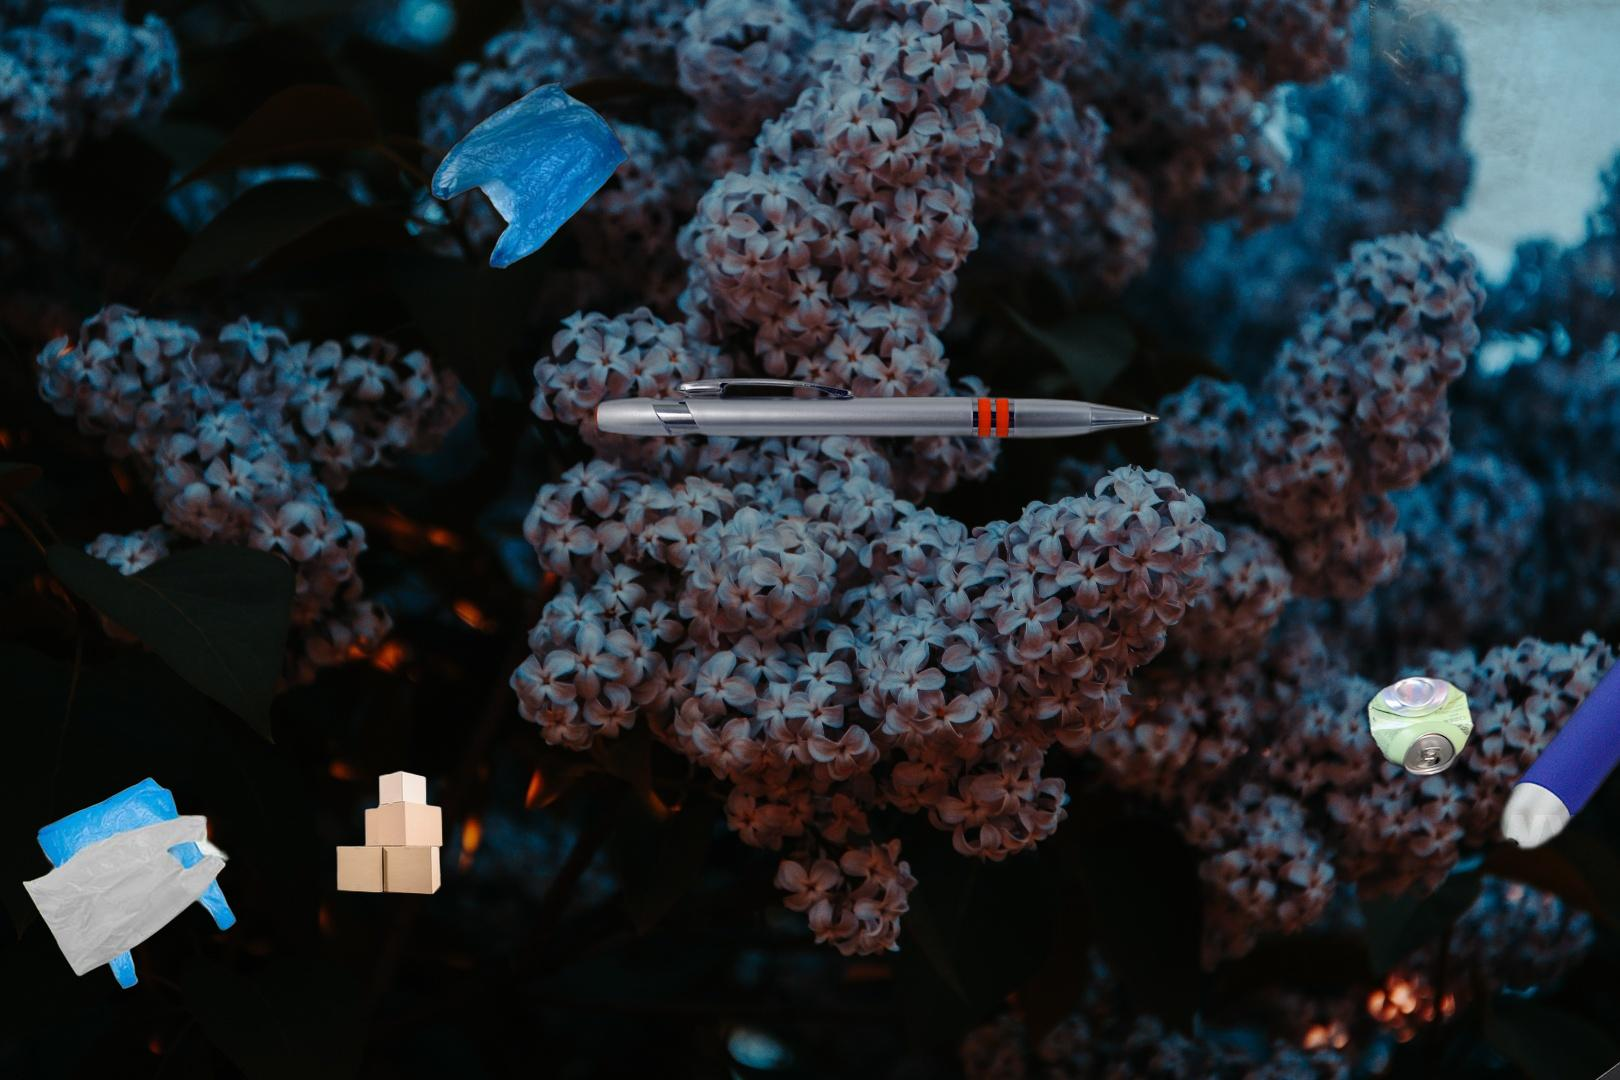battery: (1577, 965, 1620, 1080)
metal-cans: (1362, 670, 1620, 1080)
paper: (1369, 0, 1620, 352)
penholder: (499, 162, 1249, 661), (1492, 413, 1620, 931)
plastic-bag: (19, 774, 239, 992), (430, 78, 632, 272)
trashbox-cardboard: (331, 768, 446, 897)
